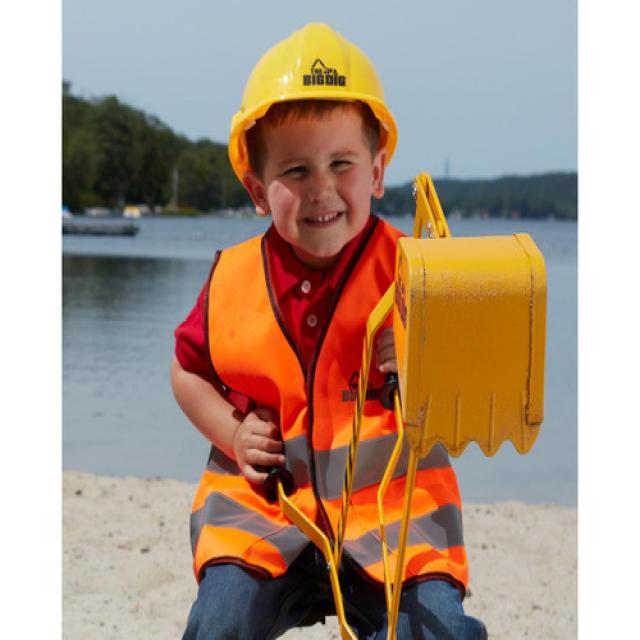helmet: (240, 24, 408, 186)
no-goggles: (250, 138, 391, 203)
vest: (202, 226, 434, 576)
